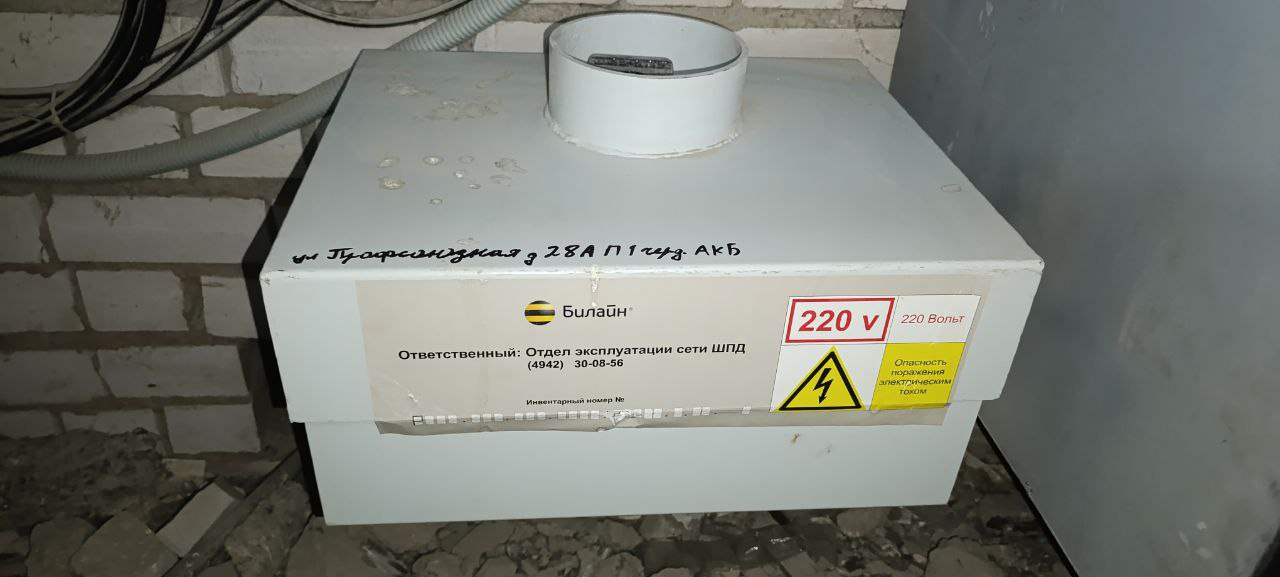shta-ps: (250, 6, 1052, 537)
